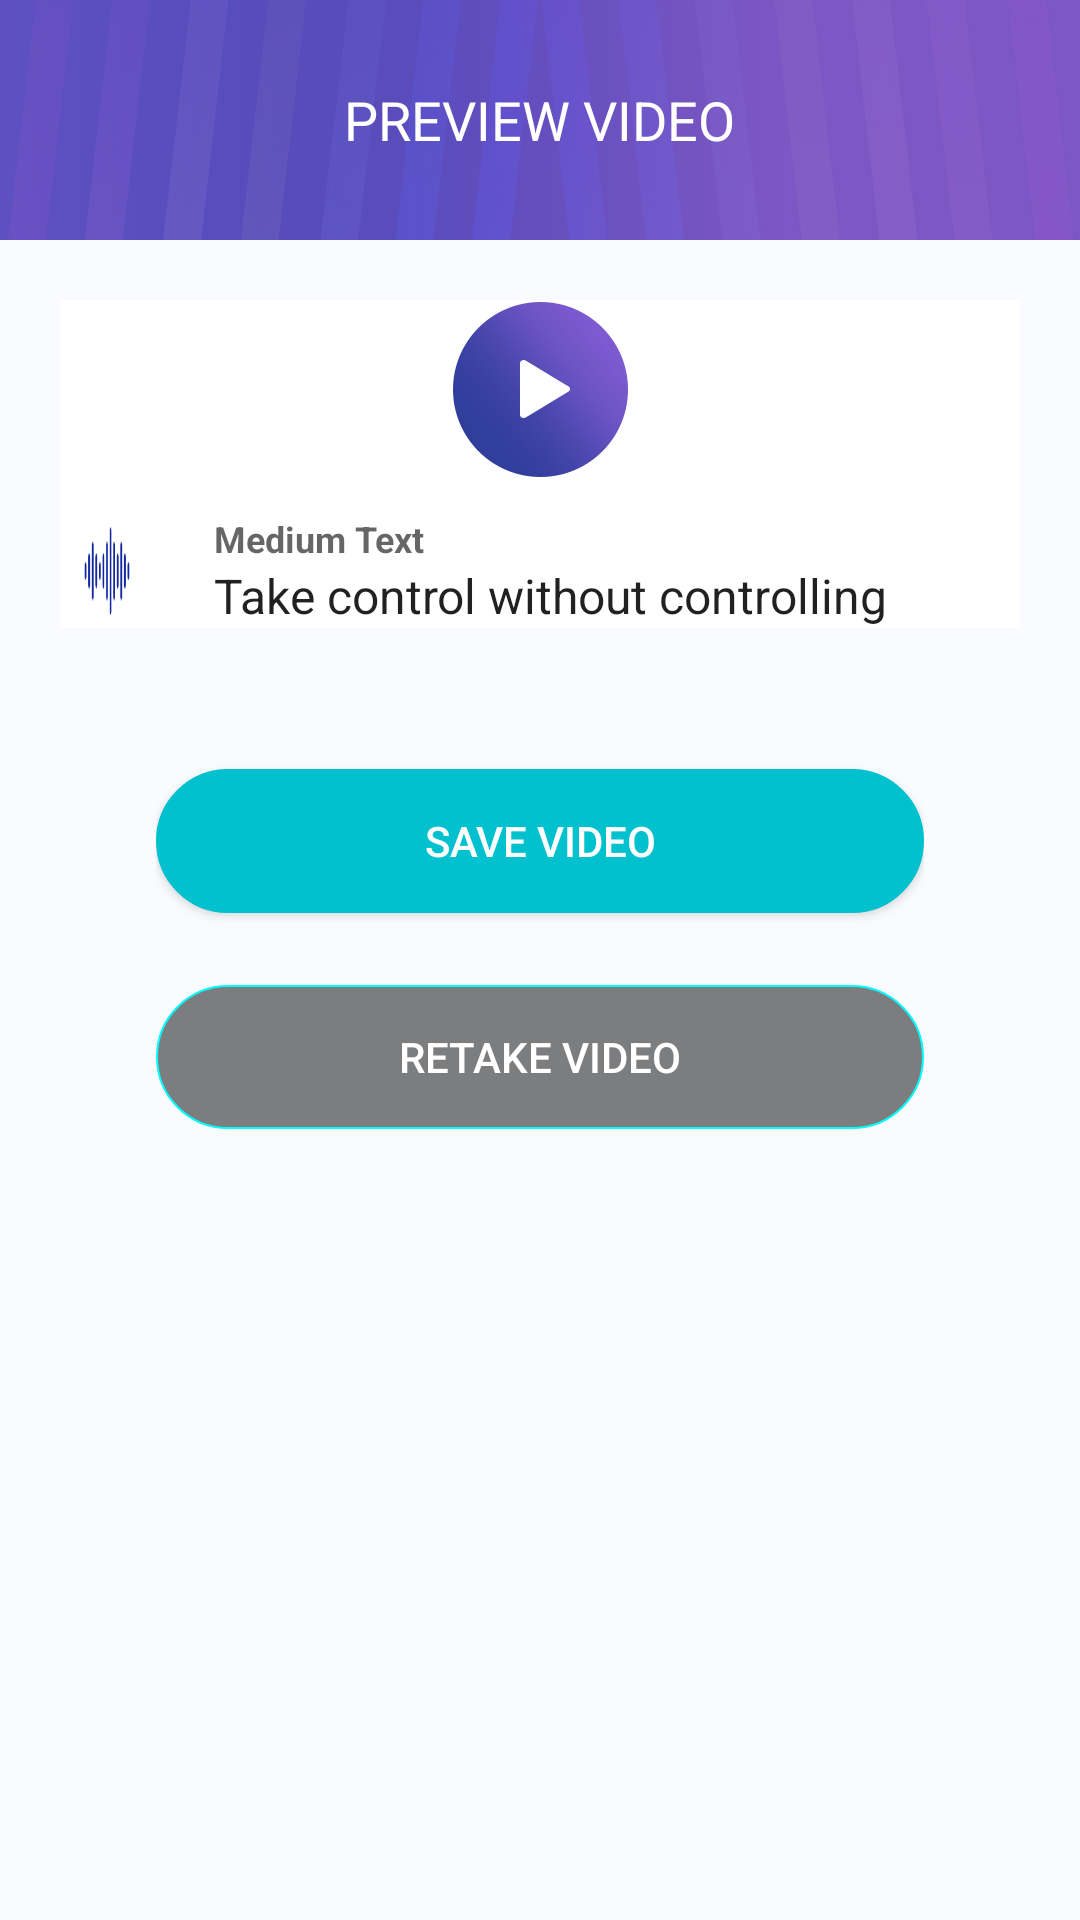

Icons on this 1080 x 1920 Android screen, each with its box as rect(x1, y1, x2, y2):
play lg: rect(453, 302, 628, 477)
track: rect(84, 527, 130, 615)
